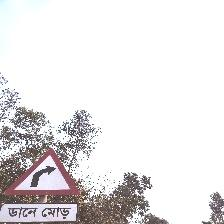Right-turn: (1, 148, 82, 223)
